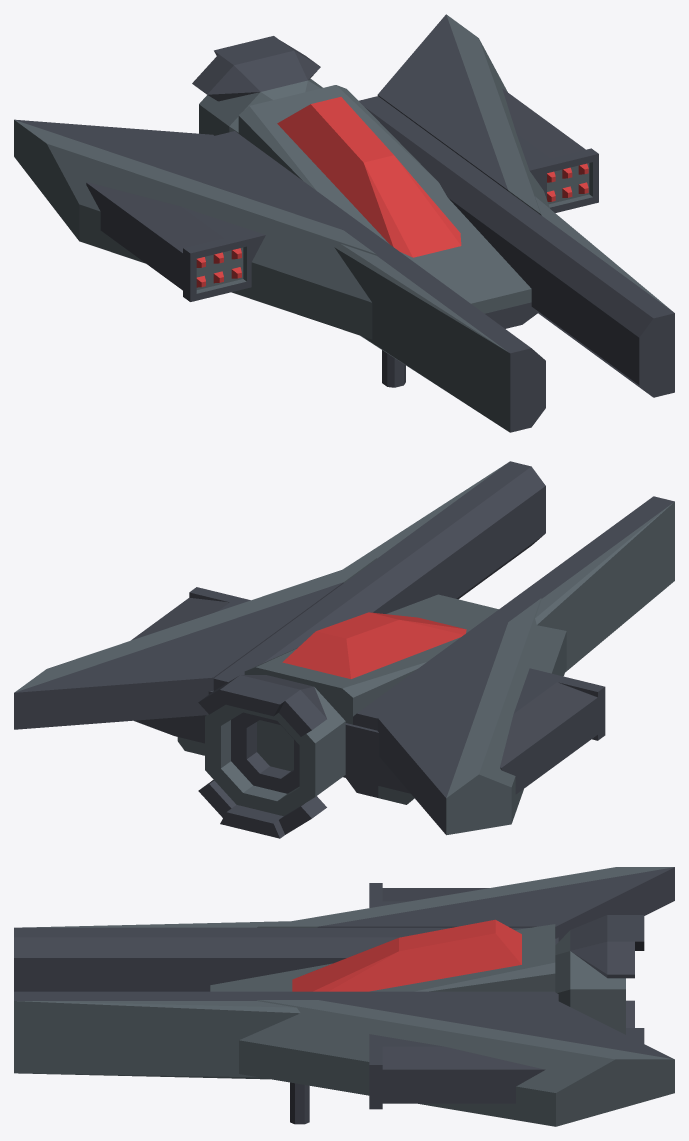
Rendered from Liberator.fbx.
3 views of the same model, one above another, from view 1: azimuth 30°, elevation 25°; view 2: azimuth 150°, elevation 25°; view 3: azimuth 270°, elevation 25° (orthographic). The views are drawn at different scales.
Visible parts, largest first — view 1: hull_body; view 2: hull_body; view 3: hull_body.
Part boxes in pixels (bbox=[...]): hull_body: bbox=[14, 14, 674, 432]; hull_body: bbox=[14, 461, 674, 838]; hull_body: bbox=[14, 867, 674, 1126].
Size of the model in its own units: 673 by 289 by 977.
